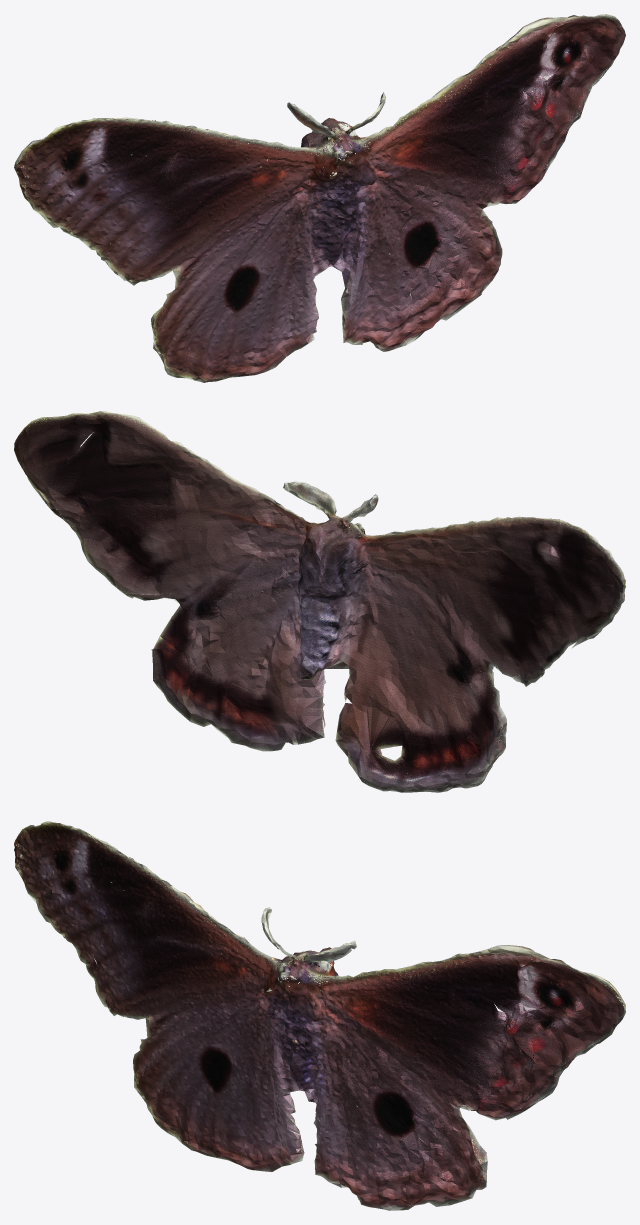
File: textured_ours.glb
3 views of the same model, one above another, from view 1: azimuth 30°, elevation 25°; view 2: azimuth 150°, elevation 25°; view 3: azimuth 330°, elevation 25° (orthographic).
Parts seen in each view (by area): view 1: Node; view 2: Node; view 3: Node.
Boxes of the visible parts, left/top/right/bottom form: Node: left=14, top=14, right=625, bottom=382; Node: left=14, top=411, right=625, bottom=792; Node: left=14, top=821, right=625, bottom=1210.
Size of the model in its own units: 2 by 0.9521 by 0.2482.
Materials: 1 (1 with a texture image).
